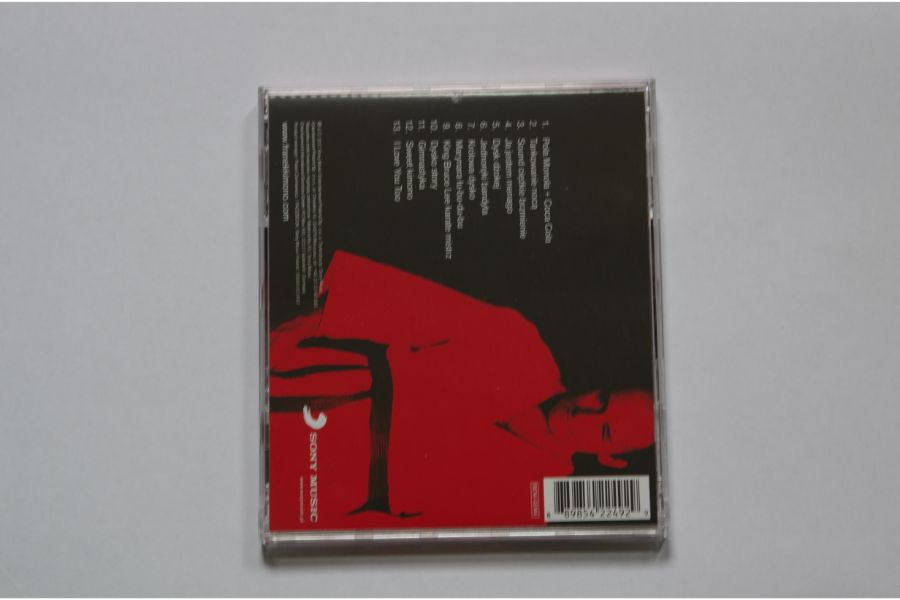album: (255, 79, 674, 550)
